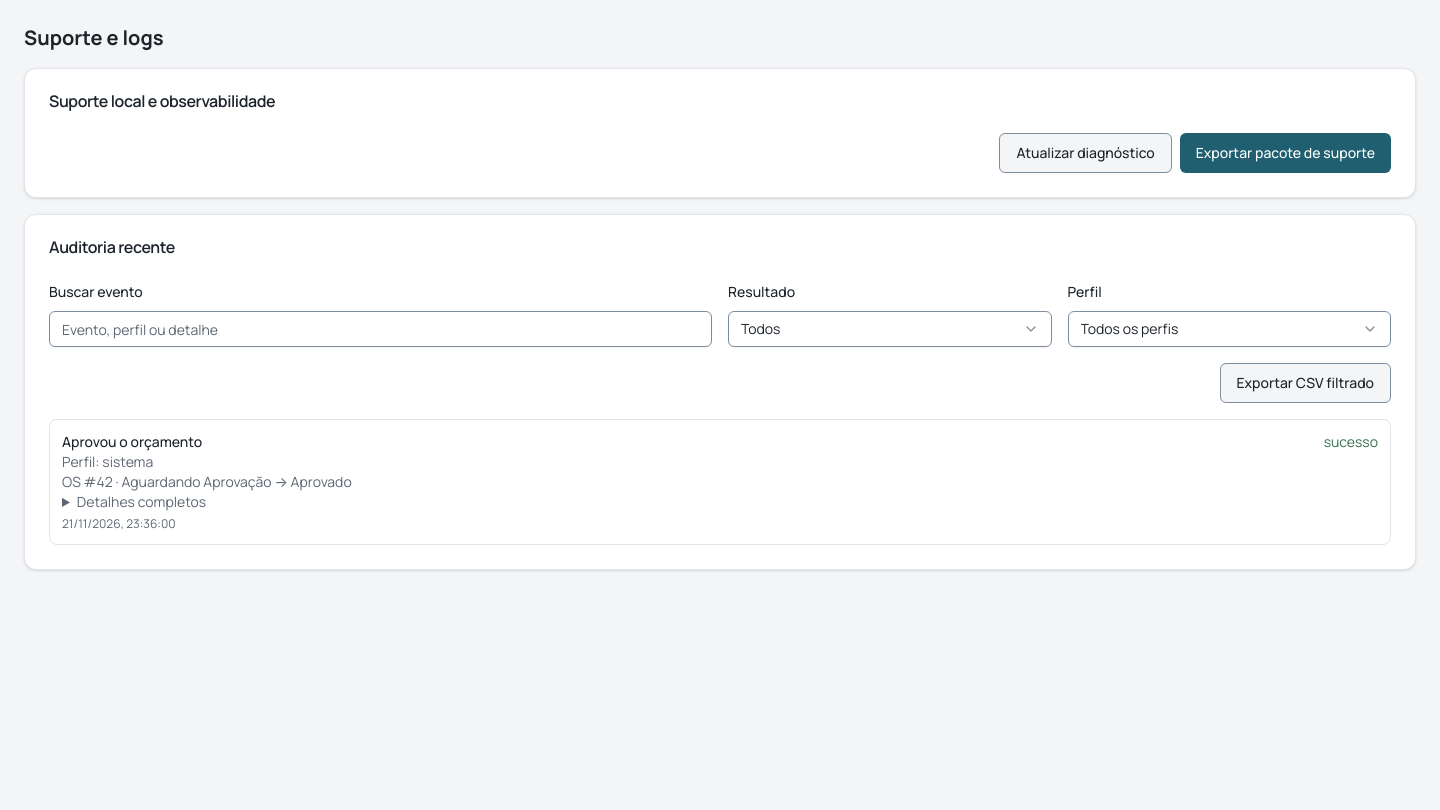
Test case: auditoria recente › mantém os detalhes completos de BUDGET_APPROVED disponíveis junto ao resumo
Check: the text "OS #42 · Aguardando Aprovação → Aprovado" is shown, box [62, 472, 352, 491]
Check: the text "21/11/2026, 23:36:00" is shown, box [62, 515, 176, 532]
What coordinates should you click on to do the following:
click the heading "Detalhes completos"
I would click on:
 (141, 502)
Its box is [77, 492, 206, 511].
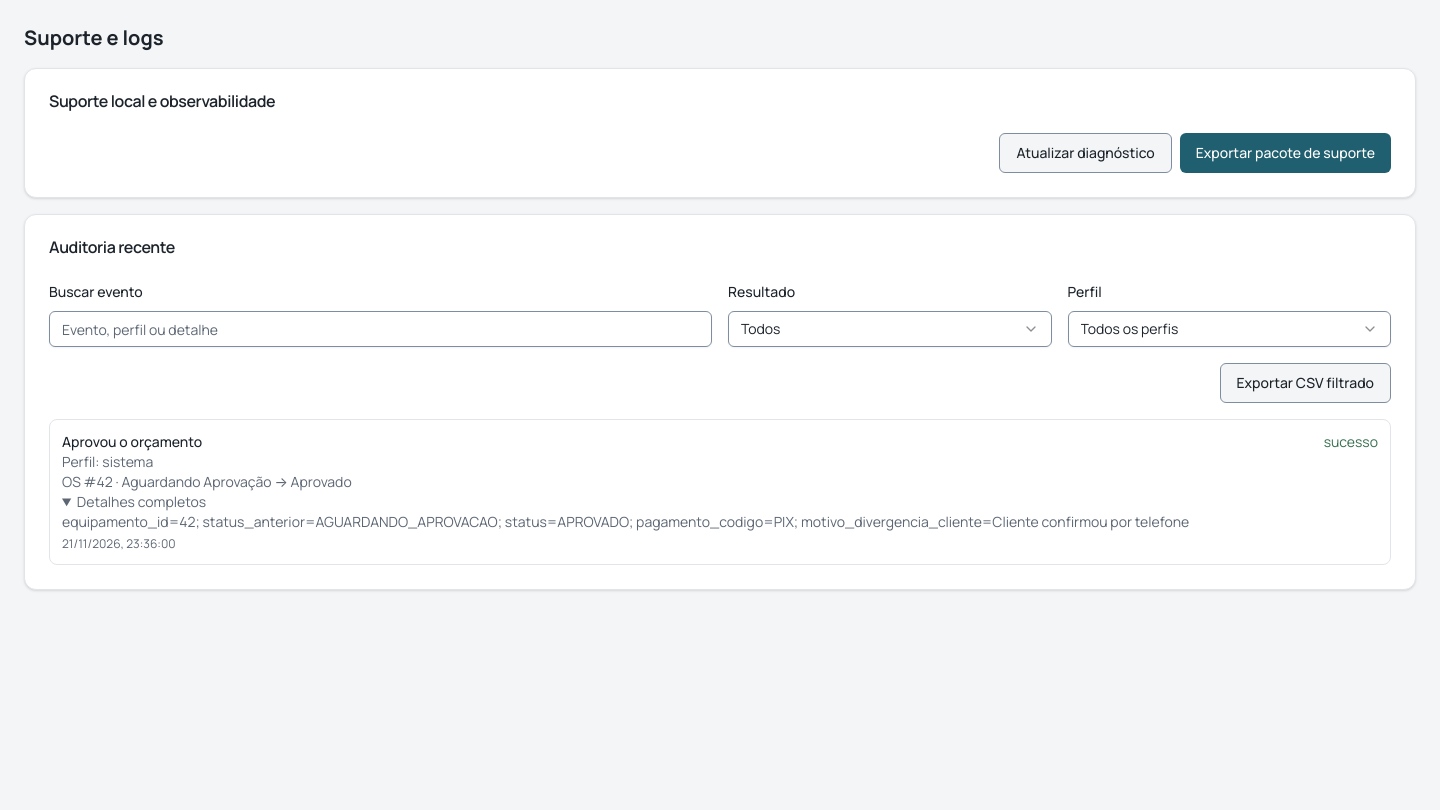
Check: the text "equipamento_id=42; status_anterior=AGUARDANDO_APROVACAO; status=APROVADO; pagamento_codigo=PIX; motivo_divergencia_clien" is shown, box [62, 512, 1189, 531]
